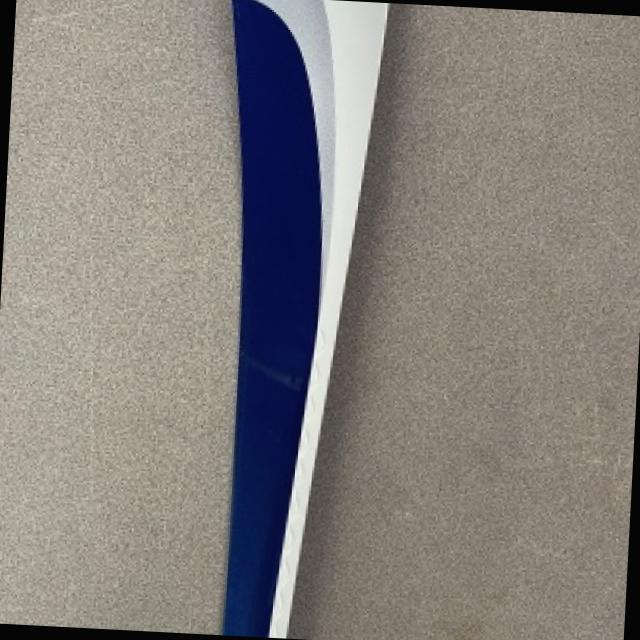healthy: (288, 7, 640, 640), (0, 0, 239, 633)
